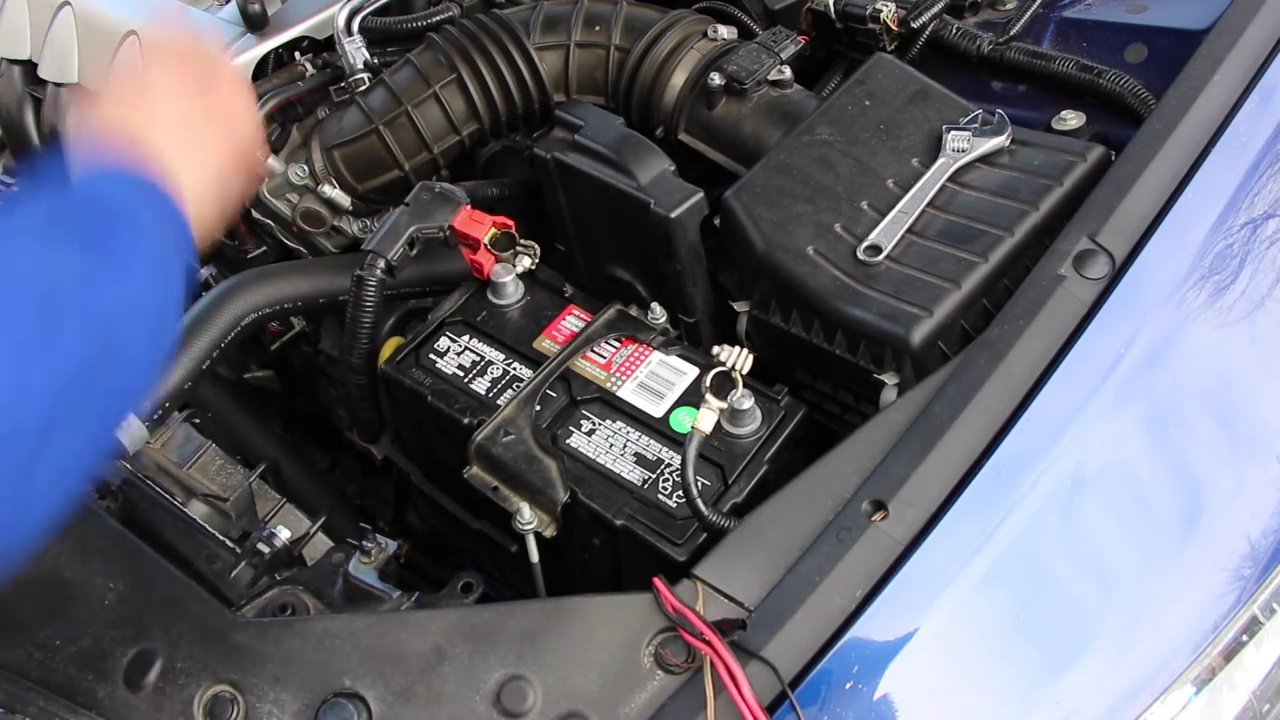battery: (368, 240, 794, 566)
neg_disconnected: (667, 329, 762, 466)
pos_disconnected: (446, 198, 559, 324)
